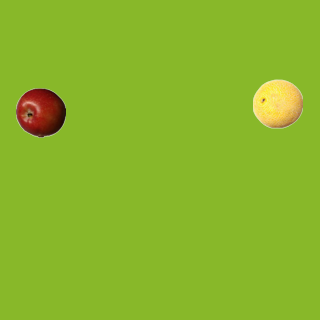Apple Braeburn: (15, 87, 65, 137)
Cantaloupe 1: (252, 78, 302, 128)
